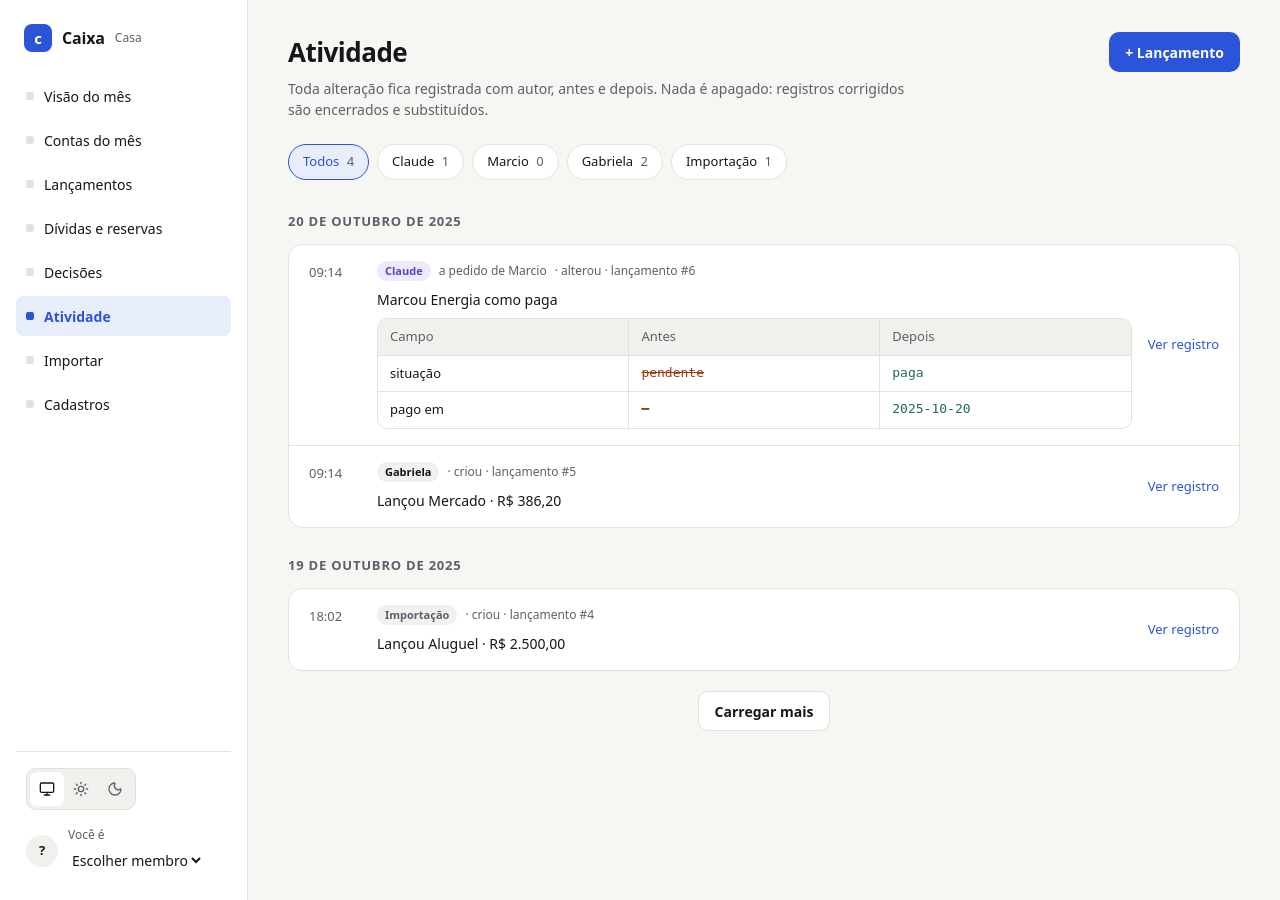
Test case: filters by author with counts and reads the member filter as written by that member
Click the button "Gabriela 2": [615, 162] box 567,144 -> 663,180
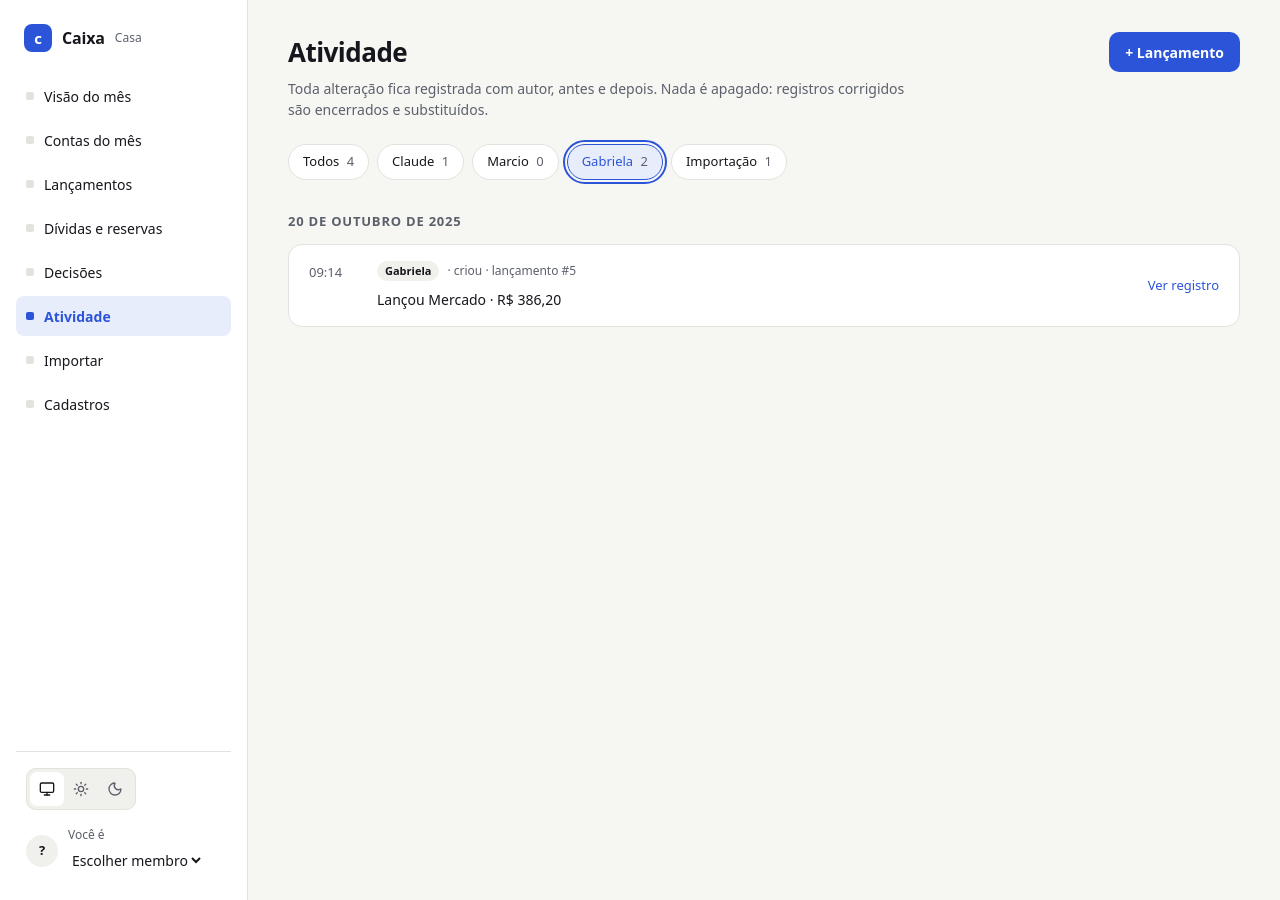
Expected: the text "Lançou Mercado · R$ 386,20" is shown, 377,290 -> 561,309
Expected: the text "Marcou Energia como paga" is gone
Click the button "Marcio 0": [515, 162] box 472,144 -> 559,180
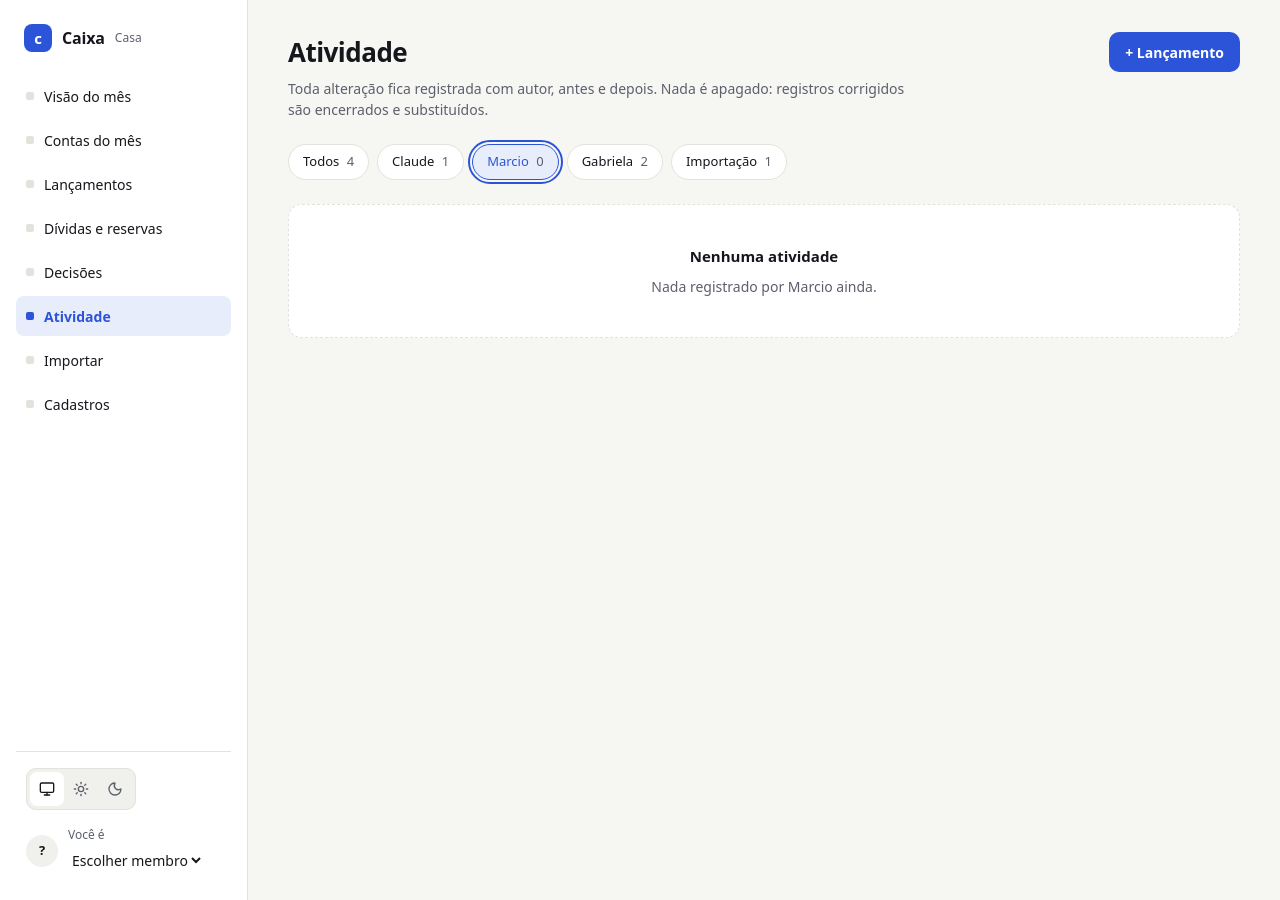
Expected: the text "Nada registrado por Marcio ainda." is shown, 651,276 -> 877,296
